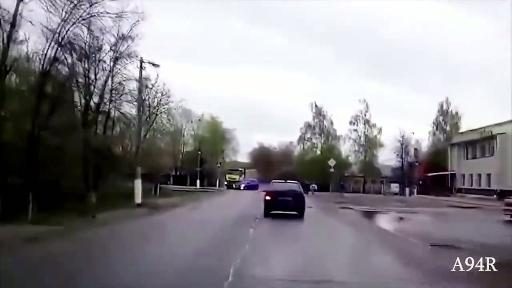Accident: (212, 143, 265, 205)
CAR: (259, 175, 310, 222)
